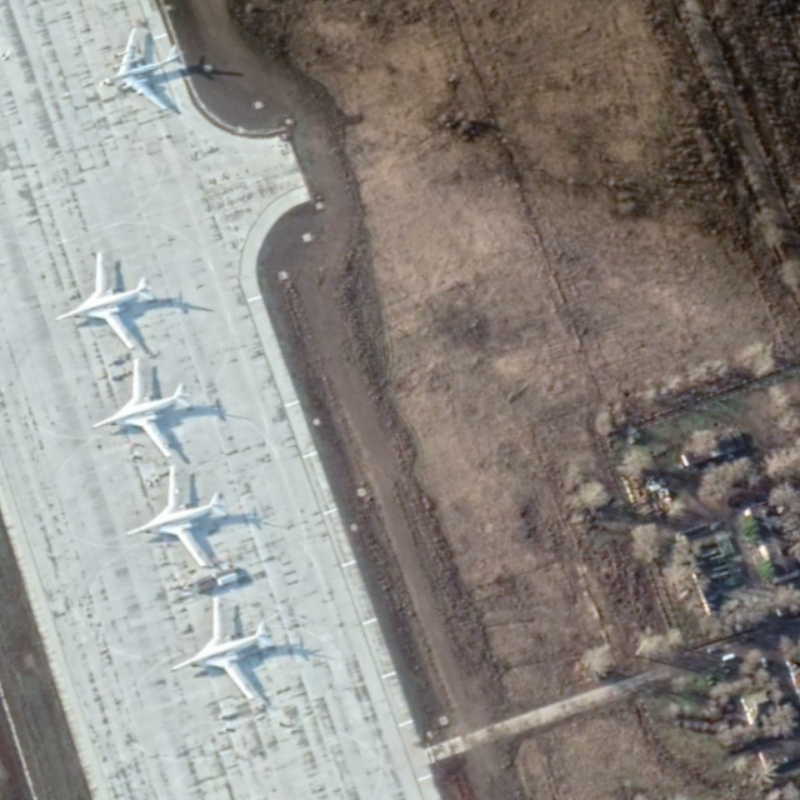A17: (119, 459, 234, 571), (168, 593, 278, 705), (88, 354, 195, 460), (51, 249, 159, 354)
A6: (94, 22, 189, 115)
